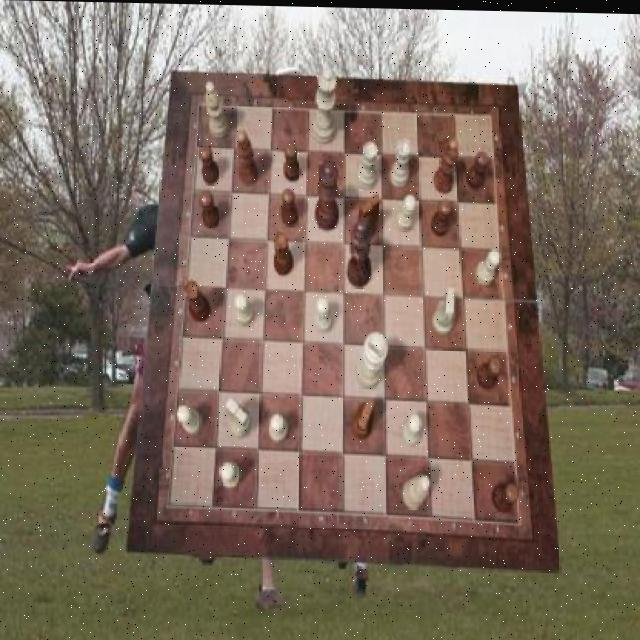bishop: (432, 136, 457, 192), (238, 129, 258, 184)
black-bishop: (346, 214, 371, 287)
black-king: (356, 192, 380, 239), (350, 395, 374, 438)
black-knight: (465, 150, 488, 189), (491, 479, 518, 511), (477, 354, 501, 389), (198, 143, 218, 184), (430, 197, 451, 235), (199, 190, 220, 228), (284, 142, 301, 181), (281, 187, 298, 224)
black-pawn: (314, 159, 338, 230)
black-queen: (182, 278, 210, 321), (272, 230, 292, 275)
black-rook: (205, 81, 228, 139), (402, 472, 429, 508)
white-bishop: (354, 329, 388, 388)
white-king: (432, 285, 456, 331), (224, 398, 250, 438)
white-knight: (475, 247, 500, 283), (396, 193, 416, 229), (177, 405, 201, 434), (402, 412, 422, 446), (234, 292, 254, 325), (315, 295, 332, 331), (220, 461, 242, 487), (269, 414, 286, 442)
white-pawn: (311, 64, 337, 142)
white-queen: (390, 136, 411, 186), (356, 140, 377, 188)
